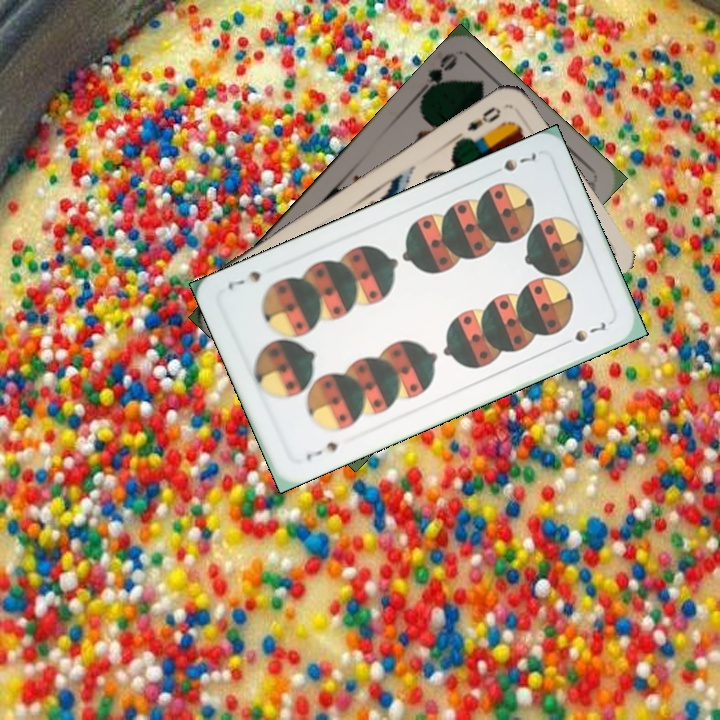EO: (463, 102, 504, 134)
GO: (412, 49, 459, 103)
S7: (499, 148, 539, 174), (301, 438, 341, 463)
